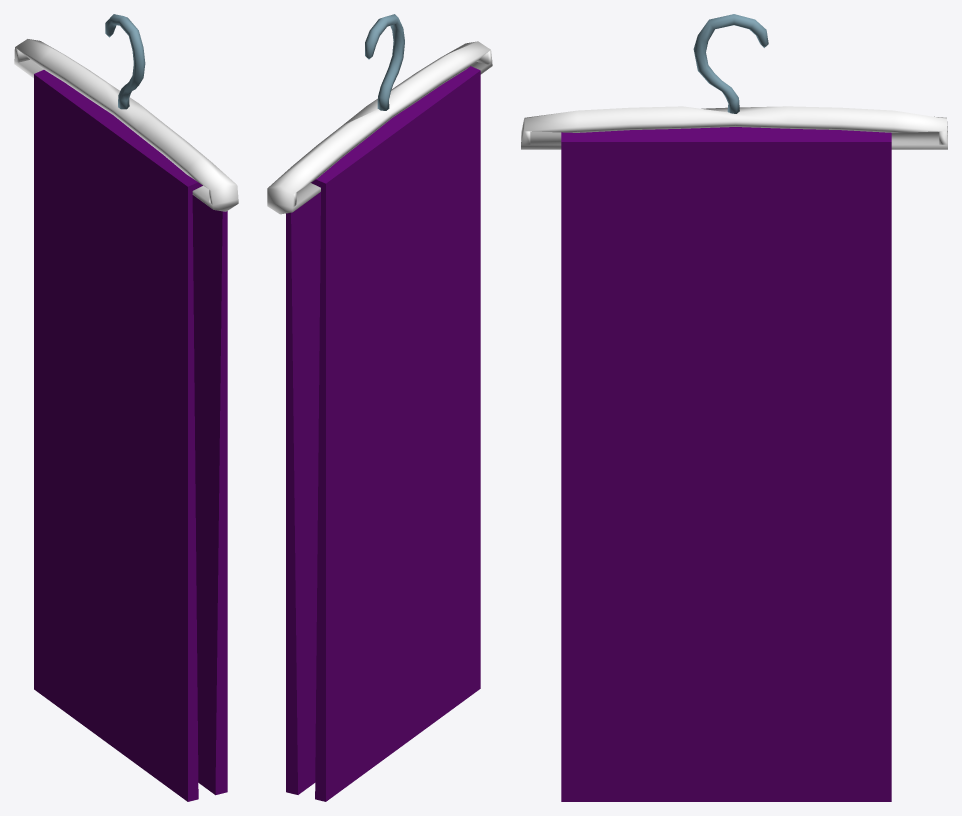
File: scarf.fbx
3 renders of one model, left to right at view 1: azimuth 30°, elevation 25°; view 2: azimuth 150°, elevation 25°; view 3: azimuth 270°, elevation 25°, orthographic. The views are drawn at different scales.
Parts seen in each view (by area): view 1: Cube.002, Cube.003; view 2: Cube.002, Cube.003; view 3: Cube.002, Cube.003.
Boxes of the visible parts, x1,y1,x2,y2 form: Cube.002: (34, 70, 227, 801); Cube.003: (14, 14, 238, 211); Cube.002: (286, 66, 480, 801); Cube.003: (267, 14, 492, 214); Cube.002: (561, 127, 891, 801); Cube.003: (521, 14, 947, 149).
Bounding box in the file's own units: 21.12 × 366 × 183.
